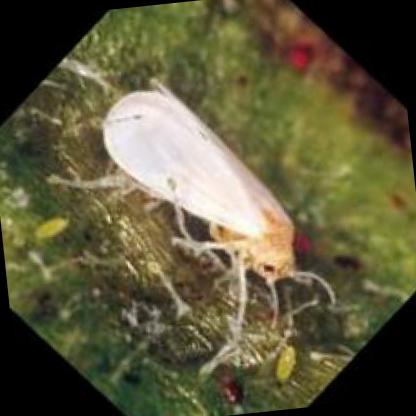whitefly: (101, 78, 294, 285)
